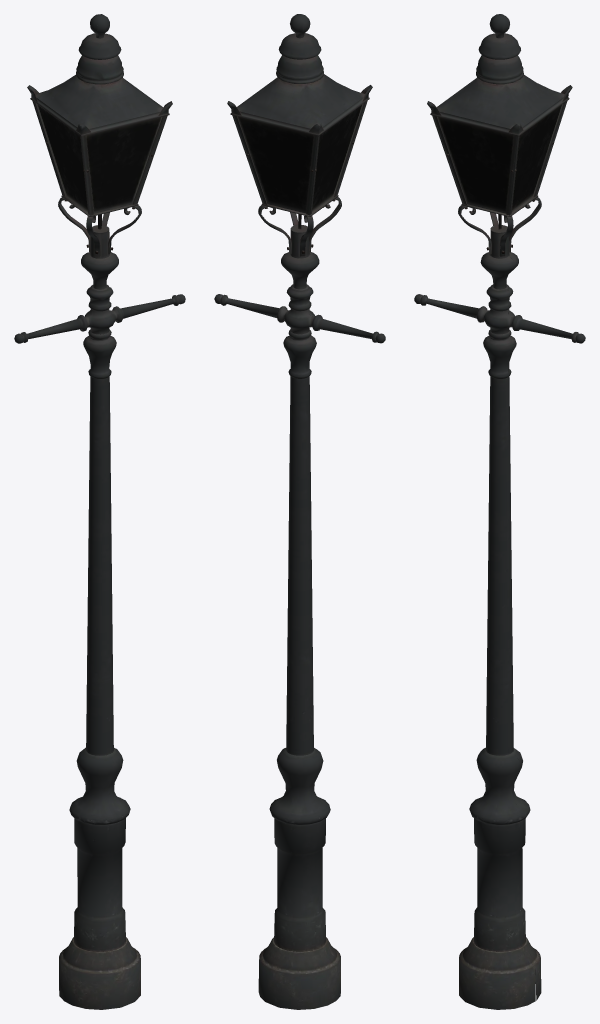
File: street_lamp_01.glb
3 renders of one model, left to right at view 1: azimuth 30°, elevation 25°; view 2: azimuth 150°, elevation 25°; view 3: azimuth 330°, elevation 25°, orthographic.
Parts seen in each view (by area): view 1: street_lamp_01; view 2: street_lamp_01; view 3: street_lamp_01.
Part boxes in pixels (x1,y1,x2,y2): street_lamp_01: (14, 14, 185, 1009); street_lamp_01: (214, 14, 385, 1009); street_lamp_01: (414, 14, 585, 1009).
Size of the model in its own units: 0.7047 by 3.87 by 0.3847.
Materials: 3 (3 with a texture image).
